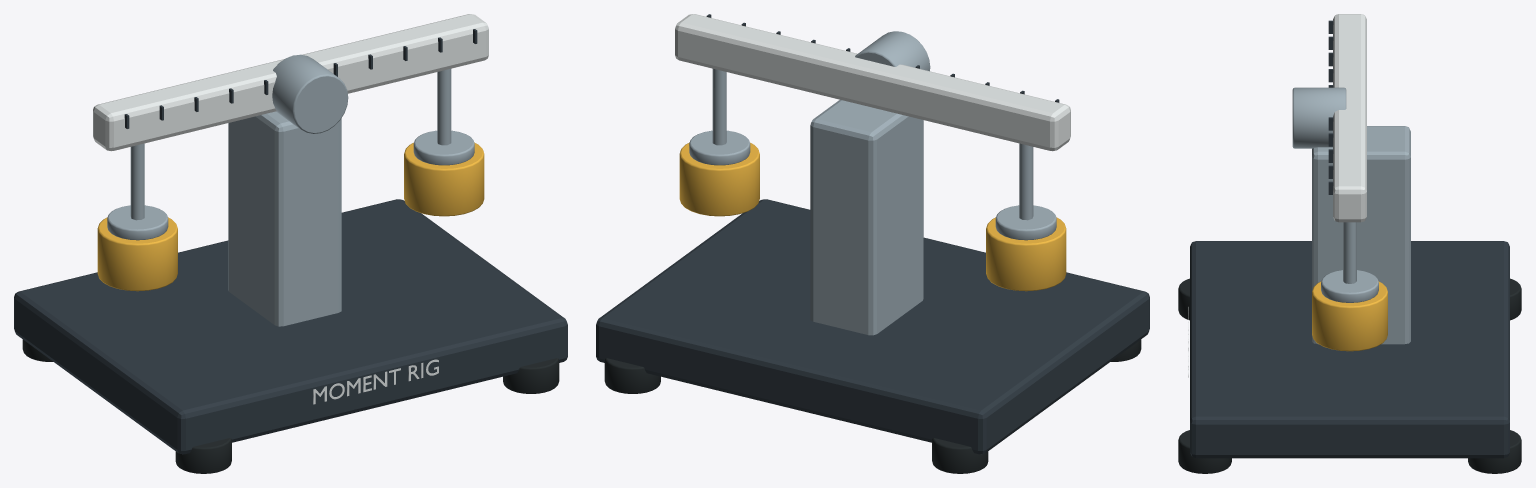
The model's file is moments.glb.
3 renders of one model, left to right at view 1: azimuth 30°, elevation 25°; view 2: azimuth 150°, elevation 25°; view 3: azimuth 270°, elevation 25°, orthographic. The views are drawn at different scales.
Parts seen in each view (by area): view 1: Cast base, Pivot tower, Pivot beam, Pivot axle, Slotted weight.001, Slotted weight, Weight top.001, Weight top, Rubber foot, Rubber foot.002, Hanger.001, Hanger (+1 smaller); view 2: Cast base, Pivot tower, Pivot beam, Slotted weight.001, Slotted weight, Pivot axle, Weight top.001, Weight top, Rubber foot.001, Rubber foot.003, Hanger.001, Hanger; view 3: Cast base, Pivot tower, Pivot beam, Slotted weight.001, Pivot axle, Weight top.001, Rubber foot.002, Rubber foot.003, Hanger.001, Rubber foot, Rubber foot.001.
Boxes of the visible parts, left/top/right/bottom form: Cast base: left=14, top=199, right=567, bottom=454; Pivot tower: left=228, top=111, right=341, bottom=326; Pivot beam: left=93, top=14, right=488, bottom=151; Pivot axle: left=272, top=54, right=348, bottom=133; Slotted weight.001: left=404, top=142, right=484, bottom=216; Slotted weight: left=97, top=217, right=177, bottom=291; Weight top.001: left=413, top=130, right=474, bottom=165; Weight top: left=107, top=205, right=168, bottom=240; Rubber foot: left=175, top=438, right=231, bottom=473; Rubber foot.002: left=503, top=358, right=559, bottom=393; Hanger.001: left=437, top=68, right=451, bottom=145; Hanger: left=130, top=143, right=144, bottom=220; Cast base: left=596, top=199, right=1149, bottom=454; Pivot tower: left=810, top=99, right=923, bottom=335; Pivot beam: left=675, top=14, right=1070, bottom=151; Slotted weight.001: left=679, top=142, right=759, bottom=216; Slotted weight: left=986, top=217, right=1066, bottom=291; Pivot axle: left=855, top=31, right=930, bottom=71; Weight top.001: left=689, top=130, right=750, bottom=165; Weight top: left=995, top=205, right=1056, bottom=240; Rubber foot.001: left=932, top=438, right=988, bottom=473; Rubber foot.003: left=604, top=358, right=660, bottom=393; Hanger.001: left=712, top=68, right=726, bottom=145; Hanger: left=1019, top=143, right=1033, bottom=220; Cast base: left=1190, top=241, right=1509, bottom=458; Pivot tower: left=1312, top=126, right=1410, bottom=344; Pivot beam: left=1333, top=14, right=1366, bottom=222; Slotted weight.001: left=1312, top=281, right=1387, bottom=351; Pivot axle: left=1292, top=87, right=1346, bottom=148; Weight top.001: left=1321, top=270, right=1378, bottom=302; Rubber foot.002: left=1178, top=430, right=1231, bottom=473; Rubber foot.003: left=1468, top=430, right=1521, bottom=473; Hanger.001: left=1343, top=222, right=1356, bottom=283; Rubber foot: left=1178, top=278, right=1189, bottom=320; Rubber foot.001: left=1510, top=278, right=1521, bottom=320.
Bounding box in the file's own units: 0.56 × 0.43 × 0.45.
